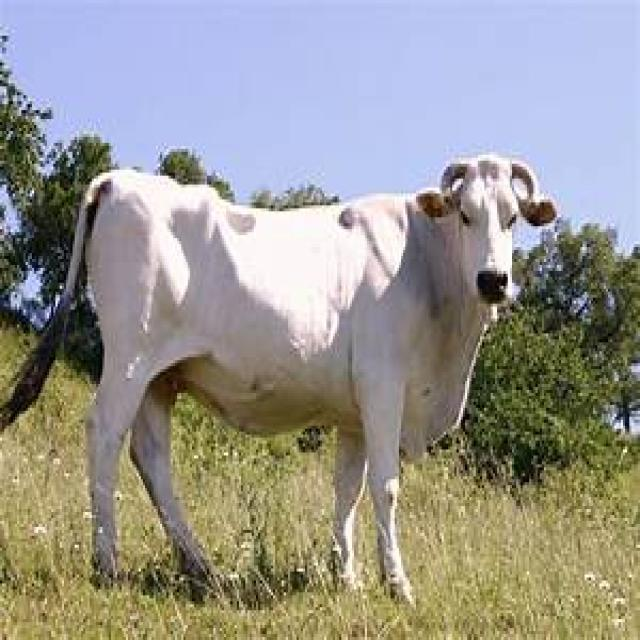cow: (62, 155, 559, 607)
